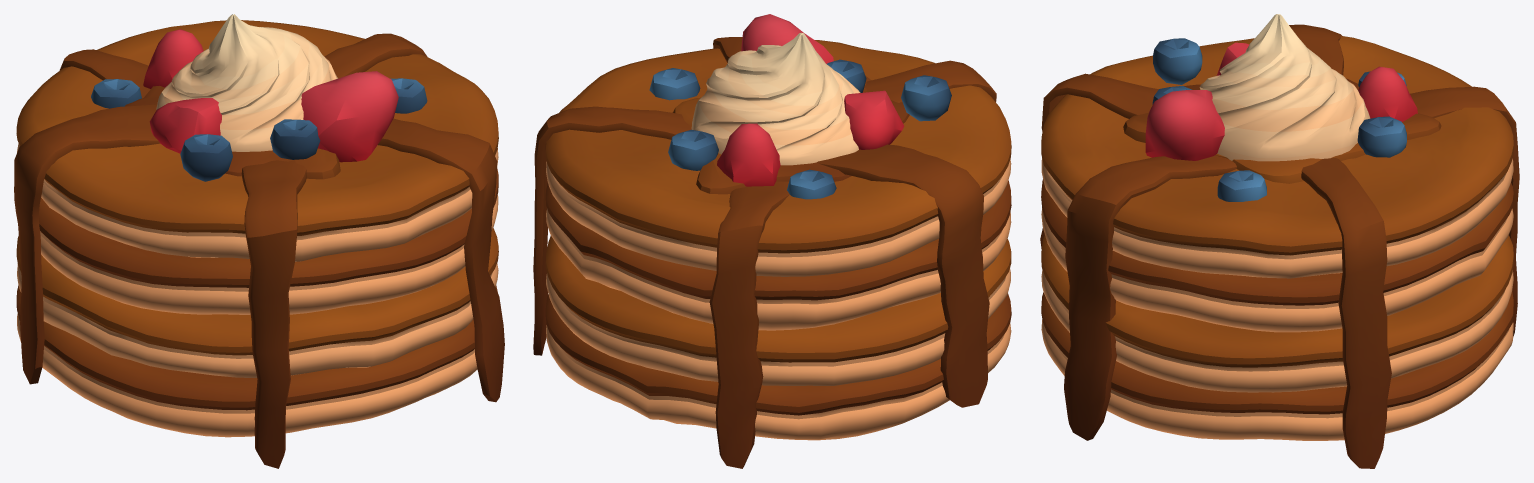
The model's file is Pancake.fbx.
3 renders of one model, left to right at view 1: azimuth 30°, elevation 25°; view 2: azimuth 150°, elevation 25°; view 3: azimuth 270°, elevation 25°, orthographic. The views are drawn at different scales.
Parts seen in each view (by area): view 1: Pancake; view 2: Pancake; view 3: Pancake.
Part boxes in pixels (bbox=[...]): Pancake: bbox=[14, 14, 504, 468]; Pancake: bbox=[533, 14, 1011, 468]; Pancake: bbox=[1040, 14, 1519, 468].
Size of the model in its own units: 16.24 by 12.64 by 15.87.
